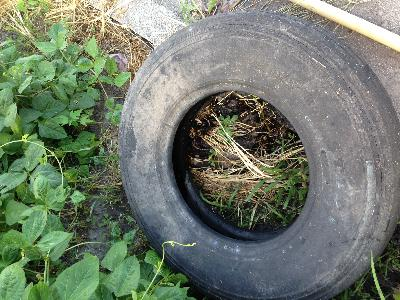tire: (117, 11, 399, 300)
